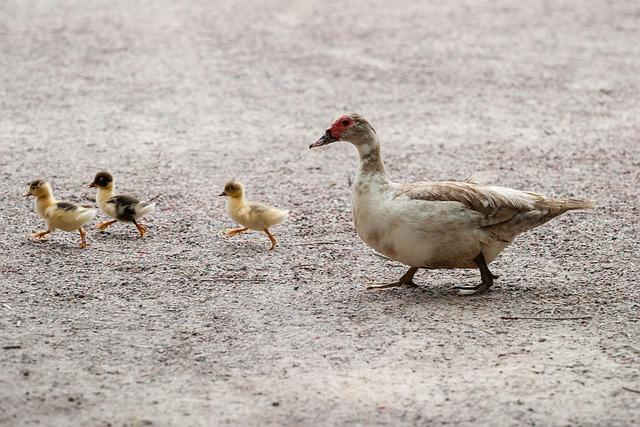Non_Gorille: (31, 79, 568, 355)
